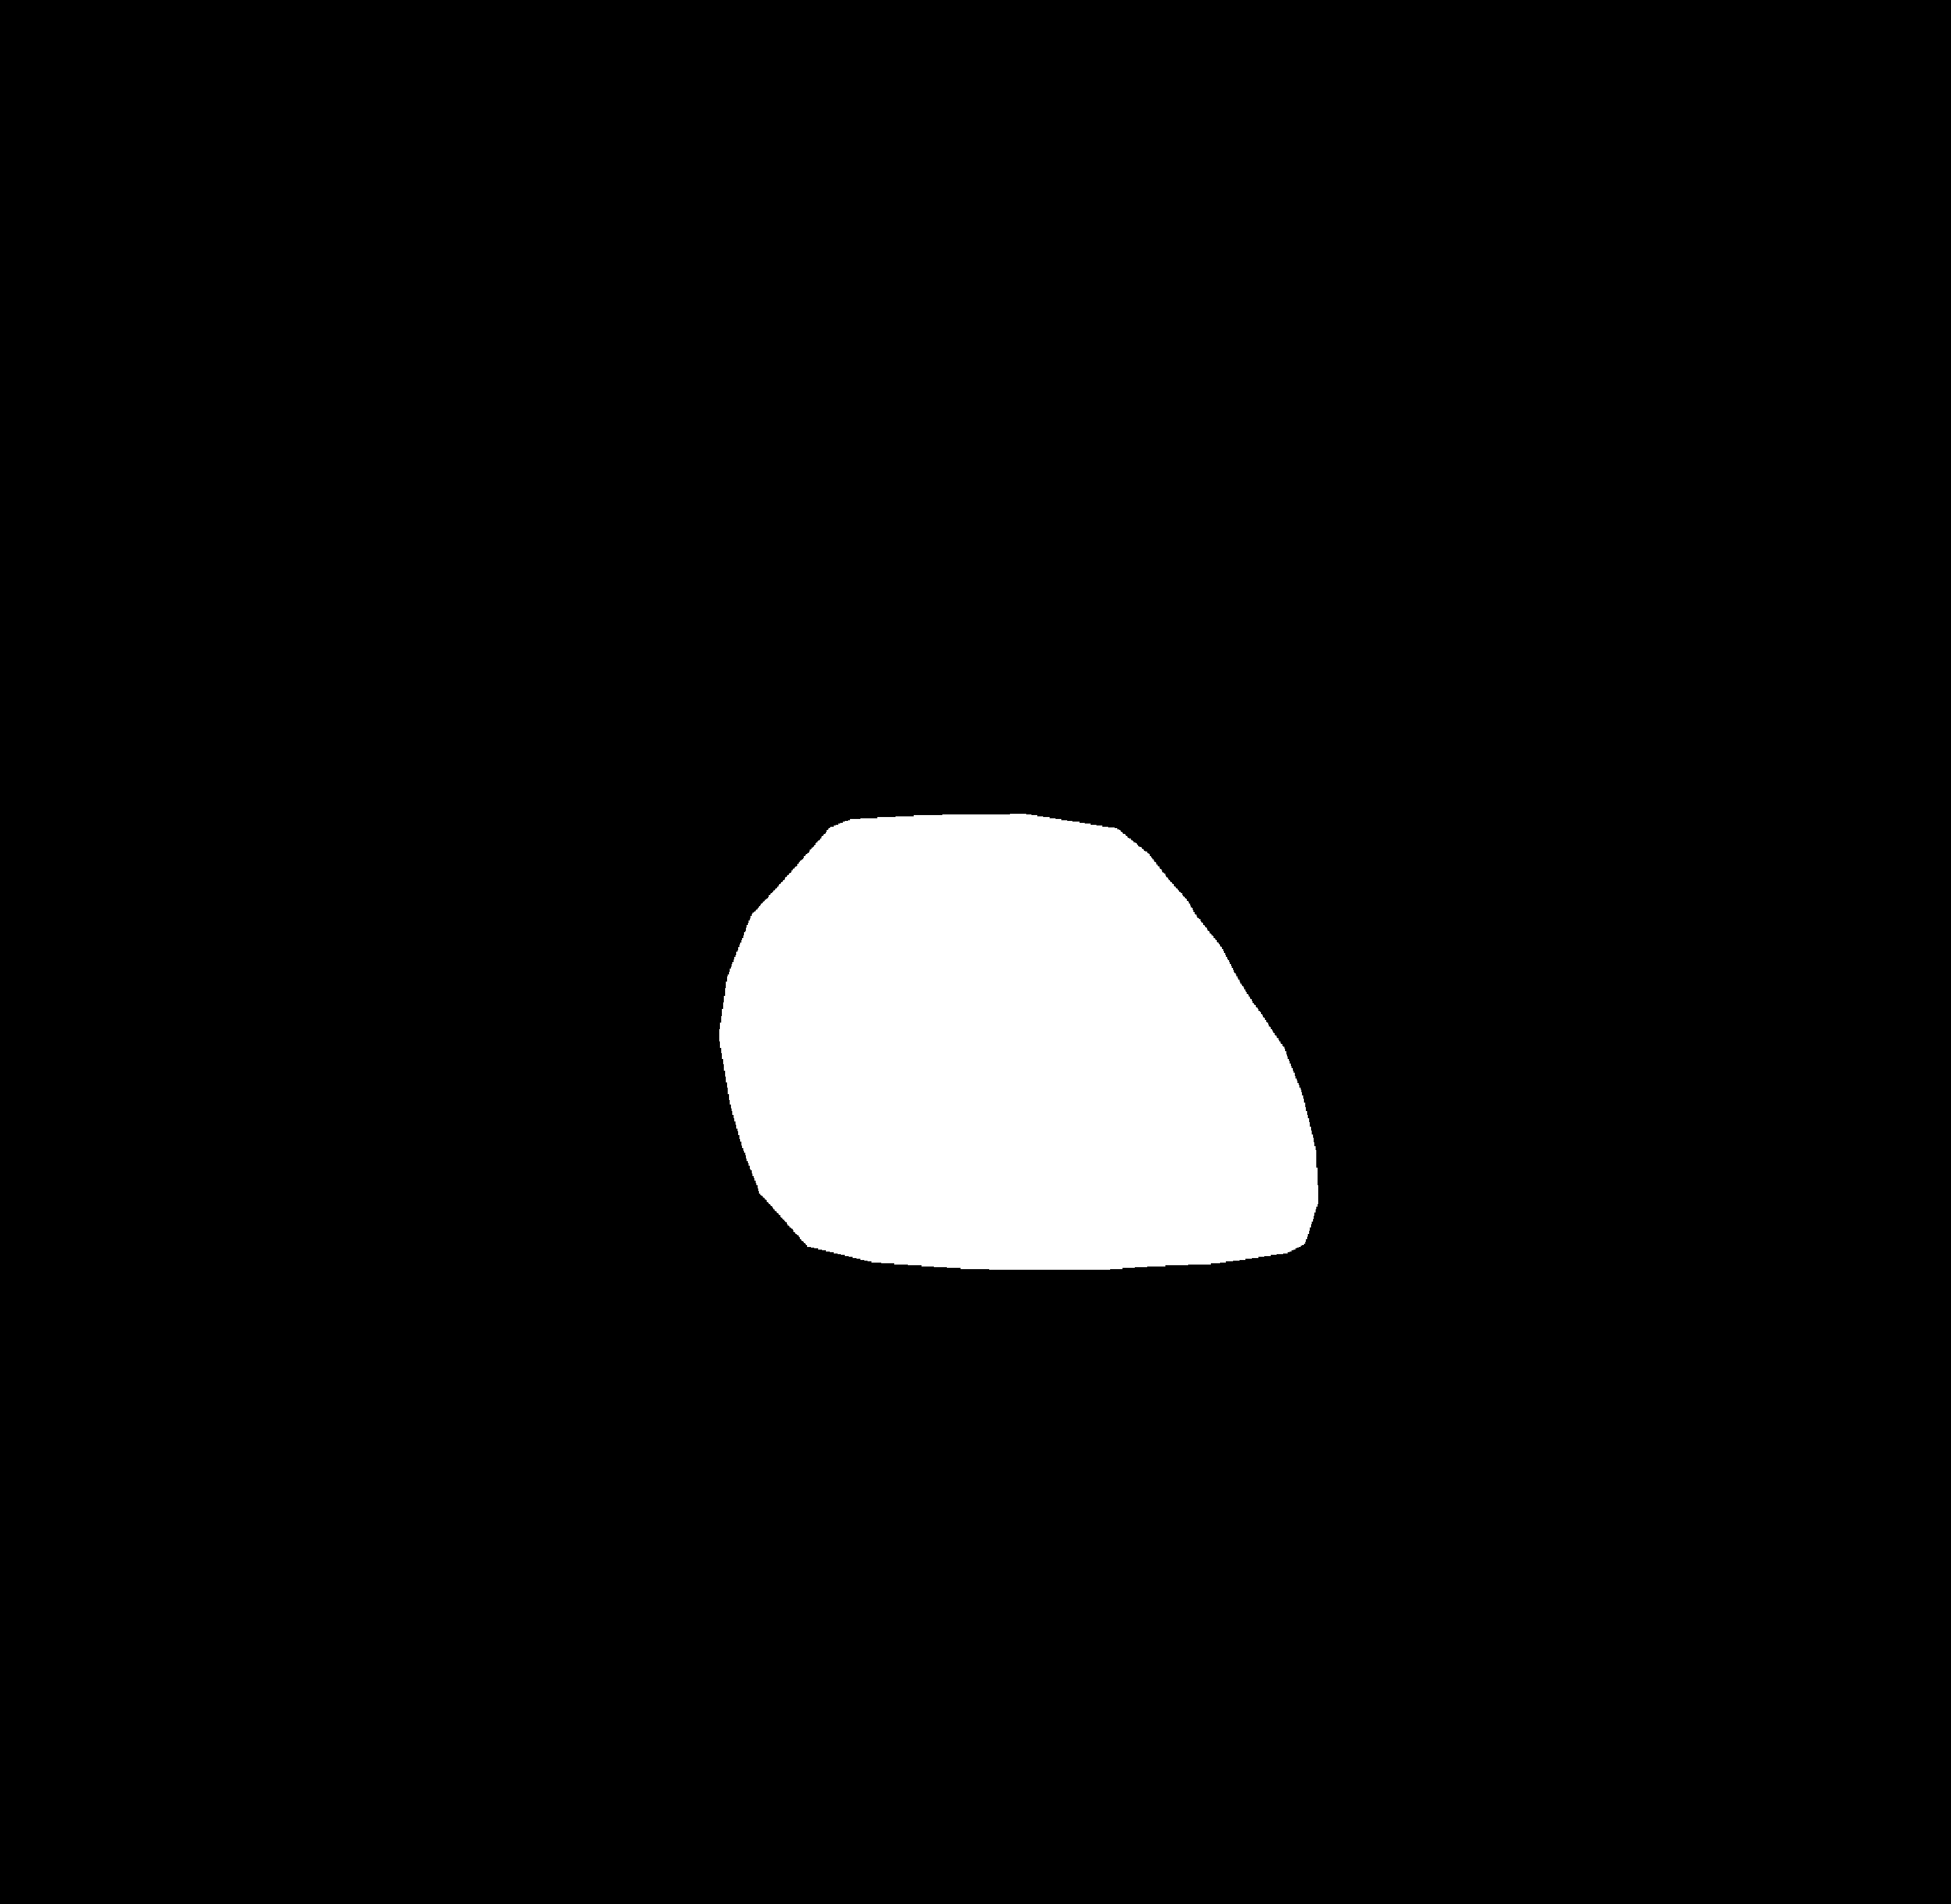heart: (720, 832, 1318, 1311)
left_lung: (274, 157, 896, 1353)
right_lung: (1050, 148, 1536, 1374)
